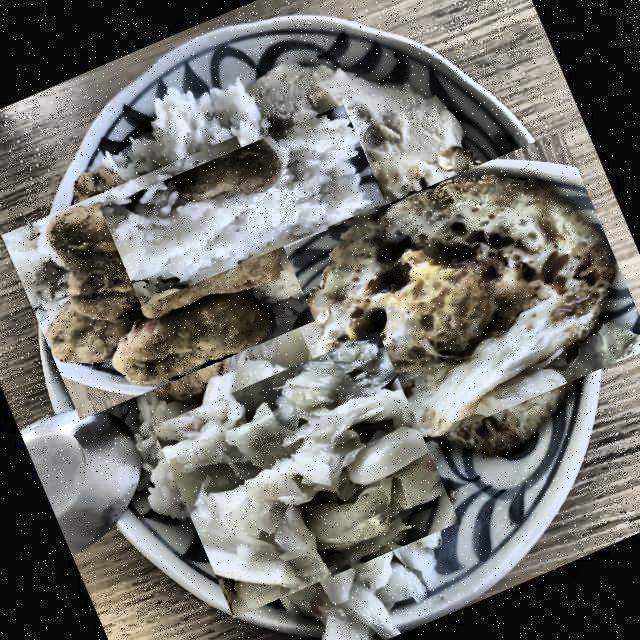Food: (279, 118, 640, 481), (9, 128, 308, 428), (158, 325, 454, 623), (120, 83, 364, 327)
